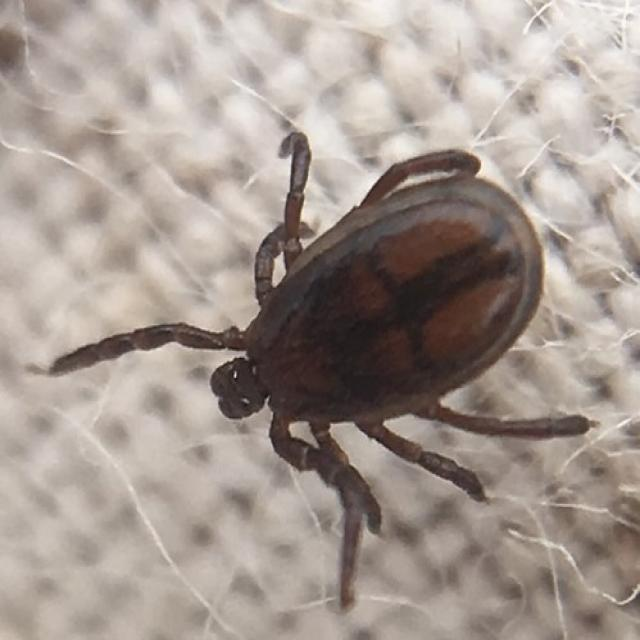Ixodes Ricinus-M: (42, 137, 586, 611)
